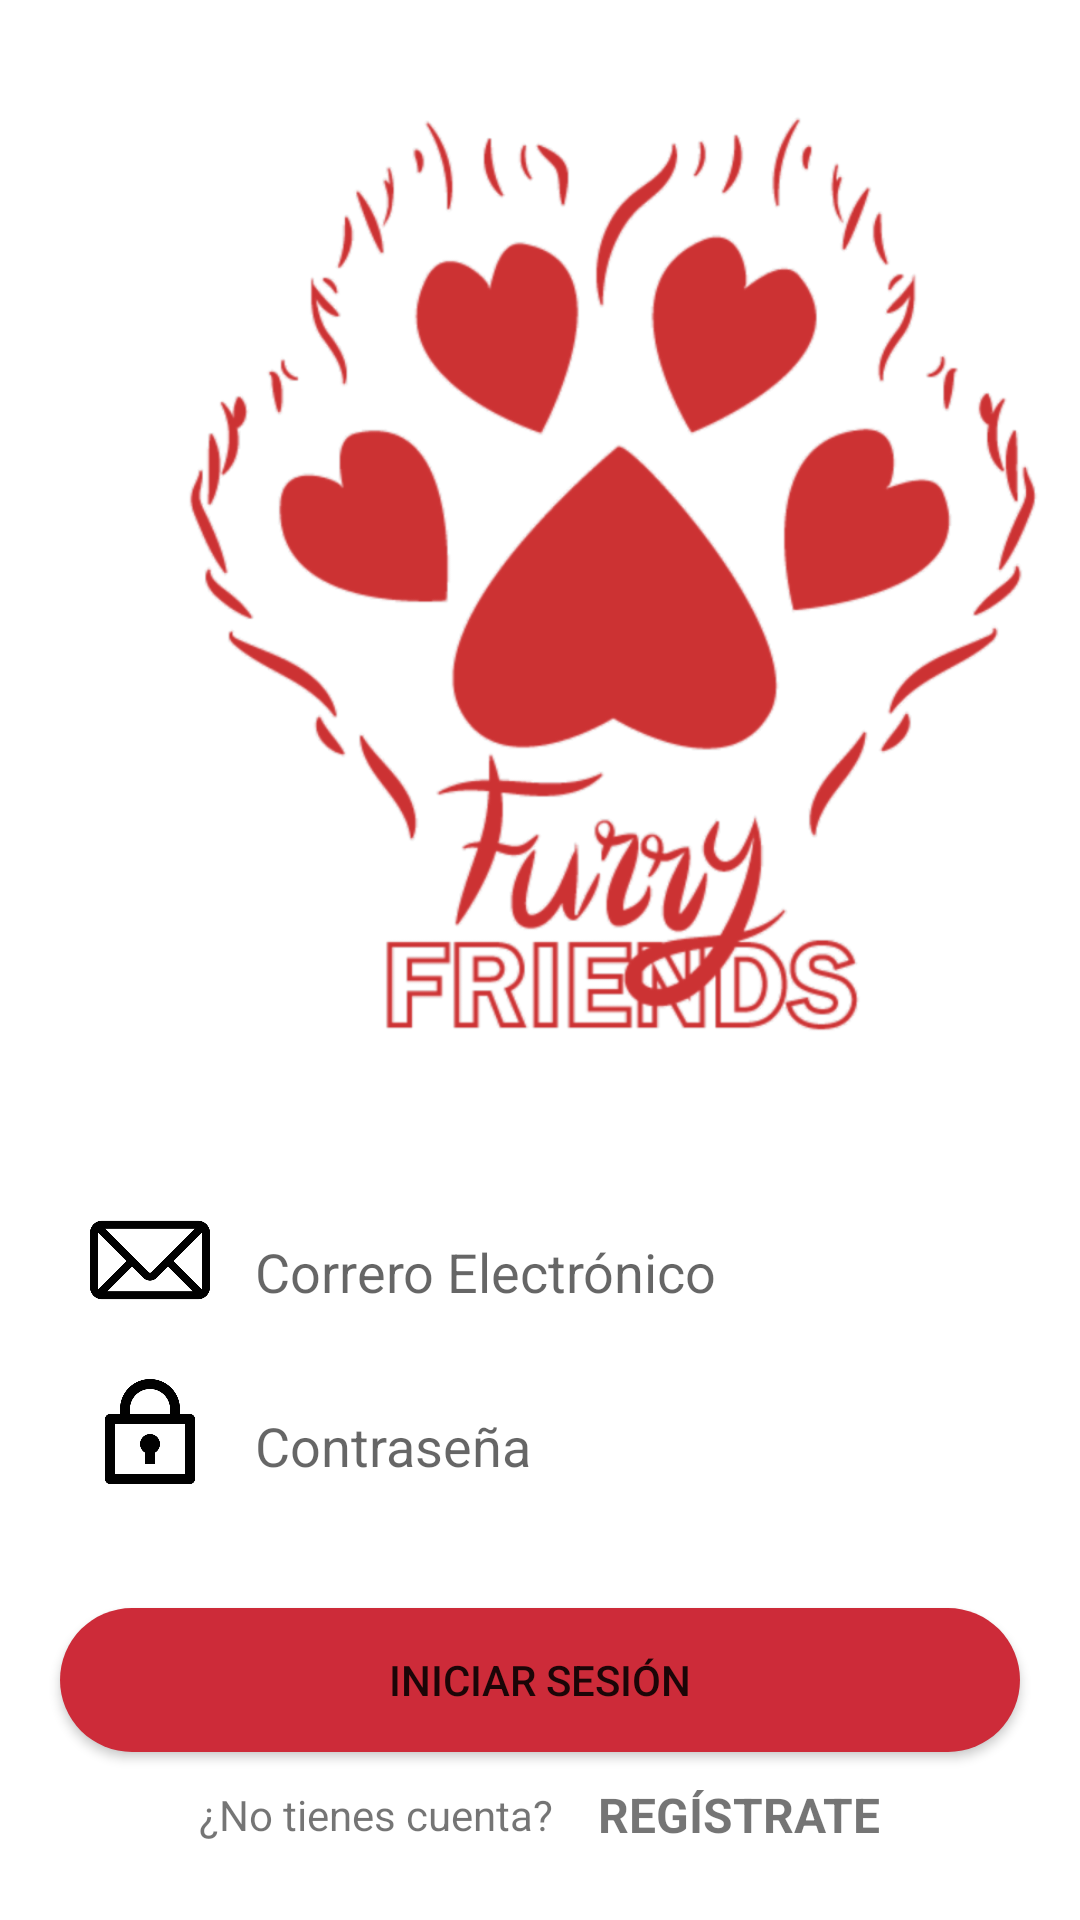

Icons on this 1080×1920 Android screen, each with its box as [left=x1, top=y1, right=x2, bottom=y2]:
cerrar con llave: [left=105, top=1379, right=195, bottom=1484]
correo electronico vacio: [left=90, top=1221, right=210, bottom=1299]
